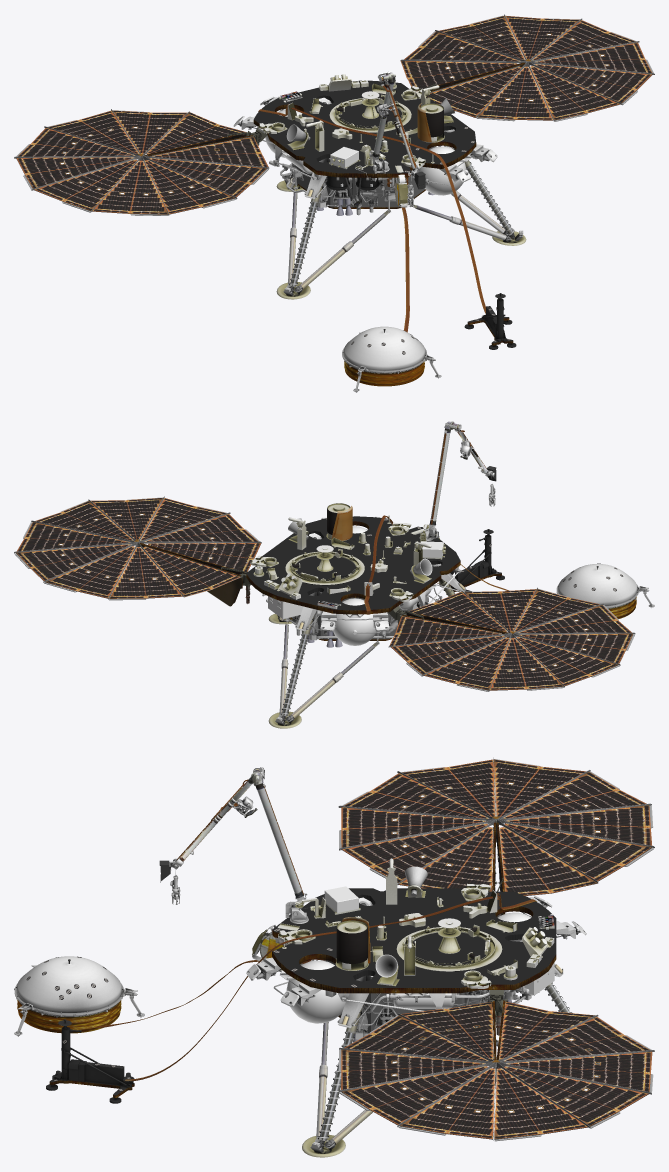
Rendered from insight-lander.glb.
3 views of the same model, one above another, from view 1: azimuth 30°, elevation 25°; view 2: azimuth 150°, elevation 25°; view 3: azimuth 270°, elevation 25° (orthographic). The views are drawn at different scales.
Visible parts, largest first — view 1: InSight_Deployed_82, Cube.079_50, Cube.051_21, Cube.052_22, Cube.090_74, Cube.080_51, Cube.001_16, Cube.065_34, Cube.087_76, Cube.002_49; view 2: InSight_Deployed_82, Cube.080_51, Cube.051_21, Cube.079_50, Cube.078_80, Cube.087_76, Cube.052_22, Cube.083_56, Cube.090_74, Cube.046_15, Cube.082_54, Cube.091_70; view 3: InSight_Deployed_82, Cube.052_22, Cube.080_51, Cube.090_74, Cube.092_71, Cube.087_76, Cube.051_21, Cube.086_60, Cube.079_50, arm_02_12, Cube.091_70, Cube.089_73 (+10 smaller).
Boxes of the visible parts, left/top/right/bottom form: InSight_Deployed_82: left=14, top=14, right=654, bottom=392; Cube.079_50: left=400, top=60, right=516, bottom=78; Cube.051_21: left=130, top=160, right=168, bottom=215; Cube.052_22: left=144, top=160, right=201, bottom=214; Cube.090_74: left=557, top=67, right=652, bottom=89; Cube.080_51: left=404, top=47, right=513, bottom=61; Cube.001_16: left=34, top=166, right=116, bottom=201; Cube.065_34: left=16, top=158, right=93, bottom=174; Cube.087_76: left=547, top=32, right=636, bottom=56; Cube.002_49: left=539, top=43, right=644, bottom=62; InSight_Deployed_82: left=14, top=421, right=654, bottom=728; Cube.080_51: left=139, top=547, right=182, bottom=598; Cube.051_21: left=518, top=605, right=618, bottom=632; Cube.079_50: left=143, top=547, right=212, bottom=597; Cube.078_80: left=144, top=546, right=240, bottom=588; Cube.087_76: left=23, top=522, right=93, bottom=540; Cube.052_22: left=518, top=598, right=599, bottom=630; Cube.083_56: left=44, top=555, right=112, bottom=592; Cube.090_74: left=91, top=500, right=131, bottom=531; Cube.046_15: left=402, top=616, right=501, bottom=634; Cube.082_54: left=77, top=547, right=134, bottom=598; Cube.091_70: left=127, top=497, right=163, bottom=539; InSight_Deployed_82: left=14, top=757, right=654, bottom=1157; Cube.052_22: left=341, top=807, right=485, bottom=829; Cube.080_51: left=504, top=1017, right=623, bottom=1061; Cube.090_74: left=370, top=1067, right=487, bottom=1124; Cube.092_71: left=341, top=1065, right=477, bottom=1089; Cube.087_76: left=494, top=1090, right=541, bottom=1140; Cube.051_21: left=339, top=791, right=477, bottom=817; Cube.086_60: left=503, top=1070, right=587, bottom=1134; Cube.079_50: left=502, top=1011, right=593, bottom=1058; arm_02_12: left=252, top=767, right=306, bottom=908; Cube.091_70: left=342, top=1067, right=479, bottom=1110; Cube.089_73: left=399, top=1069, right=488, bottom=1135.
Bounding box in the file's own units: 6.14 × 2.19 × 4.35.
Materials: 14 (11 with a texture image).
